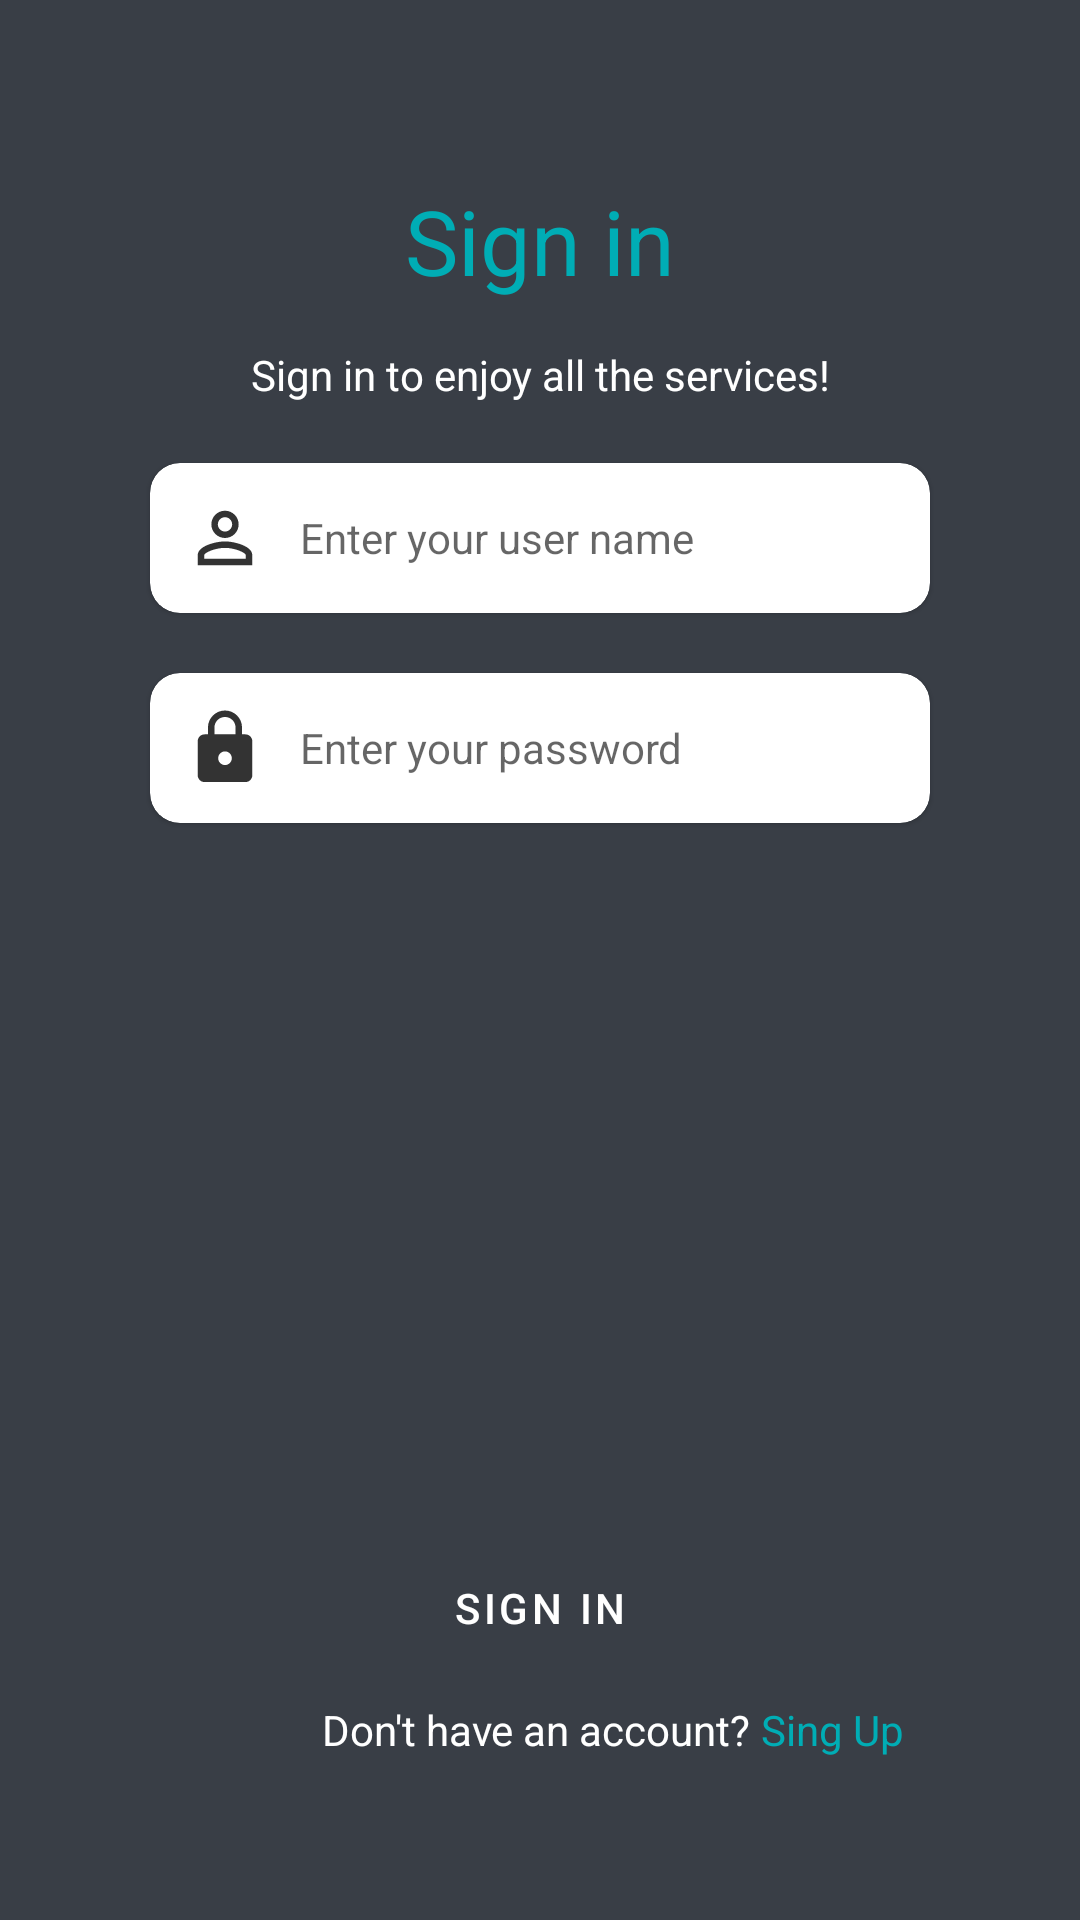

Locate icon controls on the screen. Image size 1080px×1920px, boxes as (left=x1, top=y1, right=x2, bottom=y2).
lock: (left=197, top=710, right=253, bottom=782)
